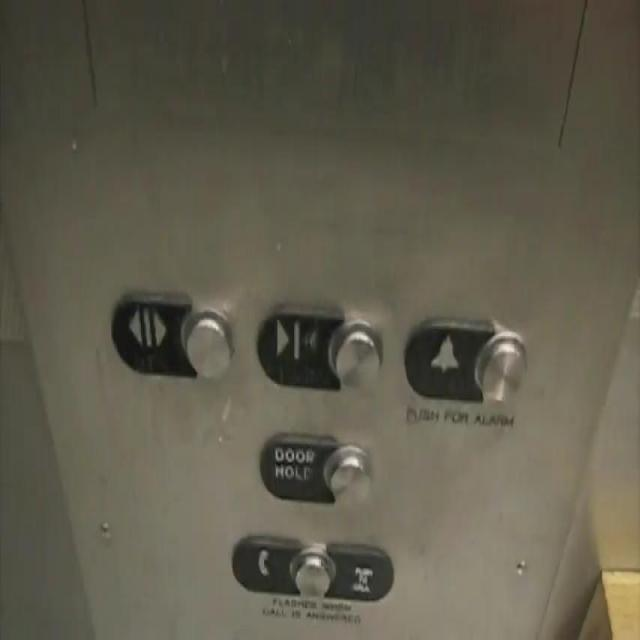alarm: (404, 314, 528, 406)
call: (230, 530, 398, 606)
close: (254, 300, 385, 395)
open: (109, 288, 240, 388)
text: (259, 428, 380, 511)
